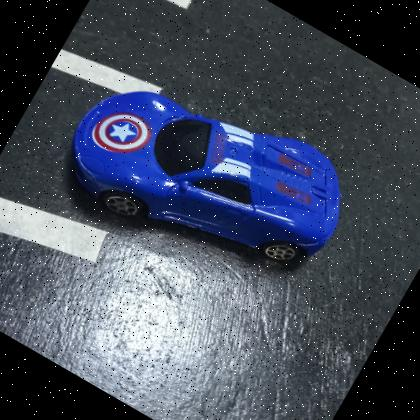Car: (70, 91, 340, 265)
